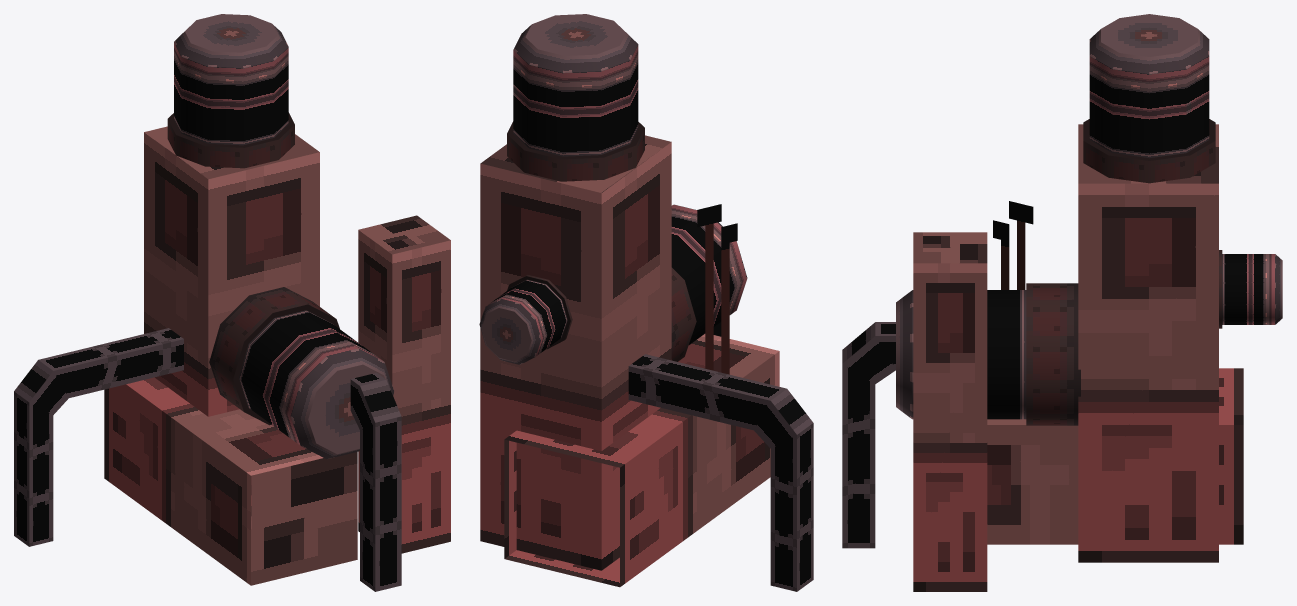
File: Pump_RED_01.fbx
3 views of the same model, side by side, from view 1: azimuth 30°, elevation 25°; view 2: azimuth 150°, elevation 25°; view 3: azimuth 270°, elevation 25° (orthographic). The views are drawn at different scales.
Visible parts, largest first — view 1: group9; view 2: group9; view 3: group9.
Part boxes in pixels (x1,y1,x2,y2): group9: [14, 14, 450, 591]; group9: [479, 14, 813, 591]; group9: [842, 14, 1282, 591].
Size of the model in its own units: 5.47 by 7.42 by 5.96.
